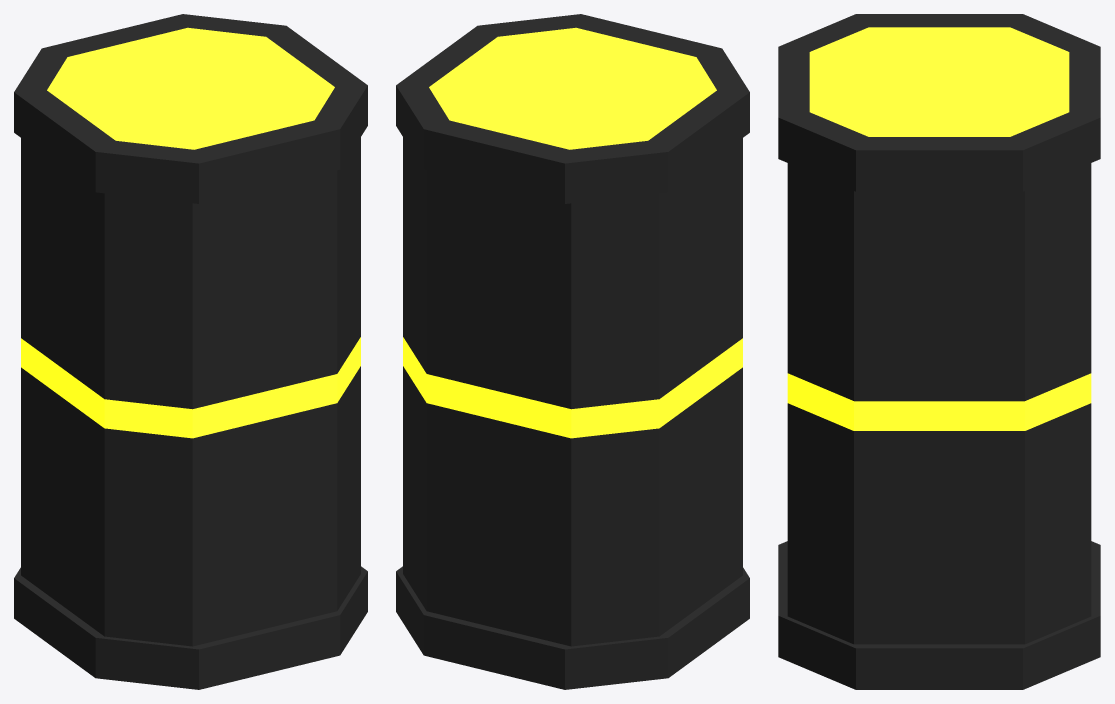
Rendered from pickup.fbx.
3 renders of one model, left to right at view 1: azimuth 30°, elevation 25°; view 2: azimuth 150°, elevation 25°; view 3: azimuth 270°, elevation 25°, orthographic. The views are drawn at different scales.
Visible parts, largest first — view 1: Cube; view 2: Cube; view 3: Cube.
Boxes of the visible parts, box(x1,y1,x2,y2) form: Cube: box(14, 14, 367, 689); Cube: box(396, 14, 749, 689); Cube: box(778, 14, 1100, 689).
Size of the model in its own units: 28.47 by 52.55 by 28.47.
